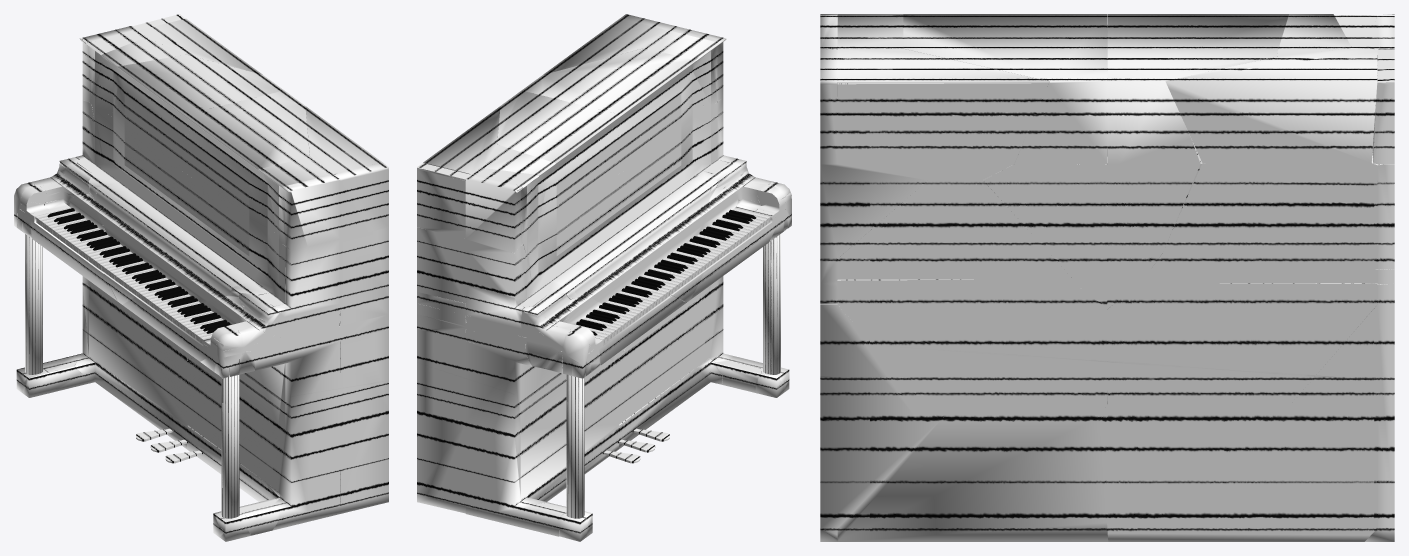
Rendered from Piano_kapot.fbx.
3 views of the same model, side by side, from view 1: azimuth 30°, elevation 25°; view 2: azimuth 150°, elevation 25°; view 3: azimuth 270°, elevation 25° (orthographic). The views are drawn at different scales.
Parts seen in each view (by area): view 1: Piano officieel_cell.033, Piano officieel_cell.099, Piano officieel_cell.050, Piano officieel_cell.055, Piano officieel_cell.028, Piano officieel_cell.107, Piano officieel_cell.144, Piano officieel_cell.087, Piano officieel_cell.130, Piano officieel_cell.112, Piano officieel_cell.076, Piano officieel_cell.103 (+34 smaller); view 2: Piano officieel_cell.033, Piano officieel_cell.099, Piano officieel_cell.028, Piano officieel_cell.050, Piano officieel_cell.055, Piano officieel_cell.144, Piano officieel_cell.004, Piano officieel_cell.128, Piano officieel_cell.109, Piano officieel_cell.061, Piano officieel_cell.093, Piano officieel_cell.129 (+38 smaller); view 3: Piano officieel_cell.026, Piano officieel_cell.090, Piano officieel_cell.124, Piano officieel_cell.056, Piano officieel_cell.117, Piano officieel_cell.033, Piano officieel_cell.011, Piano officieel_cell.057, Piano officieel_cell.099, Piano officieel_cell.013, Piano officieel_cell.050, Piano officieel_cell.028 (+16 smaller).
Part boxes in pixels (x1,y1,x2,y2): Piano officieel_cell.033: [184, 90, 309, 232]; Piano officieel_cell.099: [111, 54, 283, 173]; Piano officieel_cell.050: [118, 174, 268, 304]; Piano officieel_cell.055: [74, 286, 187, 439]; Piano officieel_cell.028: [95, 116, 190, 301]; Piano officieel_cell.107: [273, 422, 340, 518]; Piano officieel_cell.144: [187, 361, 278, 490]; Piano officieel_cell.087: [280, 341, 339, 433]; Piano officieel_cell.130: [340, 410, 388, 504]; Piano officieel_cell.112: [340, 329, 388, 422]; Piano officieel_cell.076: [274, 239, 340, 316]; Piano officieel_cell.103: [285, 175, 340, 250]; Piano officieel_cell.033: [522, 48, 703, 173]; Piano officieel_cell.099: [497, 90, 621, 230]; Piano officieel_cell.028: [537, 174, 687, 303]; Piano officieel_cell.050: [615, 116, 710, 301]; Piano officieel_cell.055: [520, 359, 619, 504]; Piano officieel_cell.144: [619, 293, 709, 423]; Piano officieel_cell.004: [465, 422, 531, 518]; Piano officieel_cell.128: [466, 341, 531, 433]; Piano officieel_cell.109: [417, 410, 465, 504]; Piano officieel_cell.061: [417, 329, 465, 422]; Piano officieel_cell.093: [465, 172, 522, 252]; Piano officieel_cell.129: [417, 227, 468, 303]; Piano officieel_cell.026: [1100, 401, 1377, 541]; Piano officieel_cell.090: [837, 288, 1107, 417]; Piano officieel_cell.124: [1107, 283, 1377, 403]; Piano officieel_cell.056: [837, 417, 1108, 541]; Piano officieel_cell.117: [1165, 48, 1377, 162]; Piano officieel_cell.033: [903, 14, 1107, 164]; Piano officieel_cell.011: [837, 82, 1048, 180]; Piano officieel_cell.057: [1163, 151, 1377, 252]; Piano officieel_cell.099: [1107, 14, 1288, 164]; Piano officieel_cell.013: [837, 180, 1072, 279]; Piano officieel_cell.050: [983, 164, 1107, 308]; Piano officieel_cell.028: [1107, 157, 1201, 309].
Bounding box in the file's own units: 67.81 × 131 × 148.
2 materials, 2 textured.
